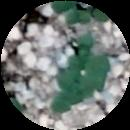Basil: (84, 56, 111, 87), (54, 57, 76, 89), (53, 91, 76, 113)
